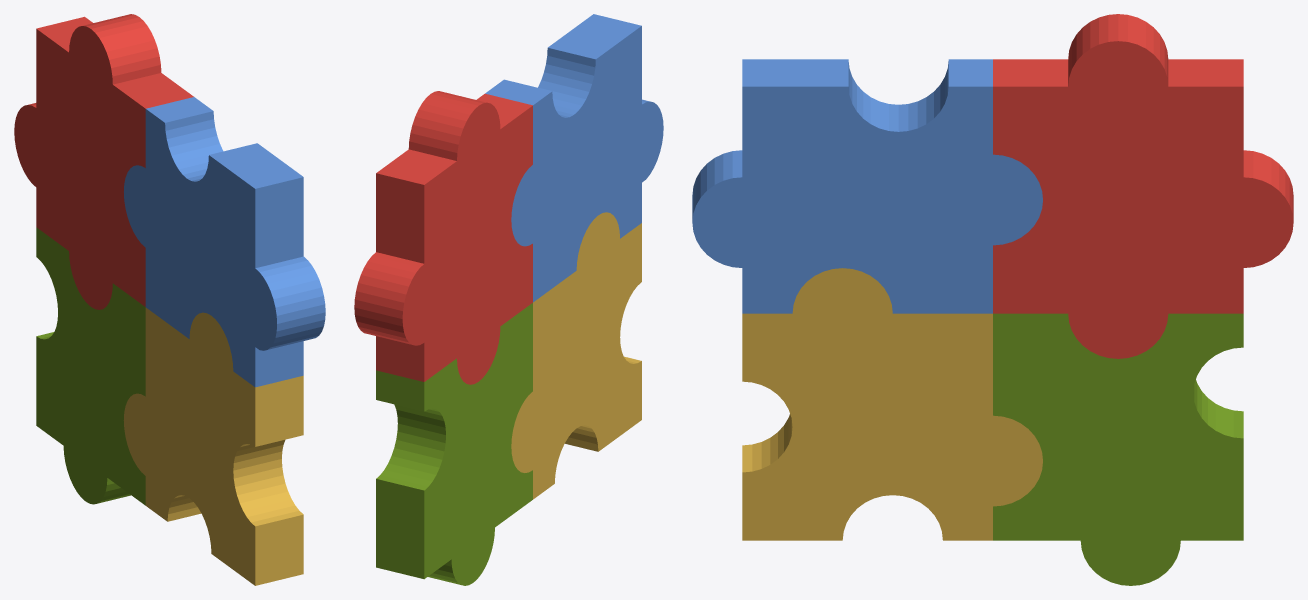
File: puzzle.glb
3 views of the same model, side by side, from view 1: azimuth 30°, elevation 25°; view 2: azimuth 150°, elevation 25°; view 3: azimuth 270°, elevation 25° (orthographic). The views are drawn at different scales.
Visible parts, largest first — view 1: Cube, Cube.003, Cube.001, Cube.002; view 2: Cube.001, Cube.002, Cube, Cube.003; view 3: Cube.001, Cube, Cube.003, Cube.002.
Boxes of the visible parts, x1=… form: Cube: x1=124, y1=97, x2=325, y2=387; Cube.003: x1=123, y1=307, x2=303, y2=585; Cube.001: x1=14, y1=14, x2=193, y2=309; Cube.002: x1=36, y1=227, x2=145, y2=505; Cube.001: x1=354, y1=91, x2=532, y2=384; Cube.002: x1=376, y1=303, x2=532, y2=585; Cube: x1=485, y1=14, x2=663, y2=302; Cube.003: x1=511, y1=212, x2=641, y2=499; Cube.001: x1=993, y1=14, x2=1293, y2=358; Cube: x1=692, y1=59, x2=1042, y2=313; Cube.003: x1=742, y1=268, x2=1042, y2=540; Cube.002: x1=993, y1=313, x2=1243, y2=585.
Size of the model in its own units: 0.512 by 4.8 by 4.8.
